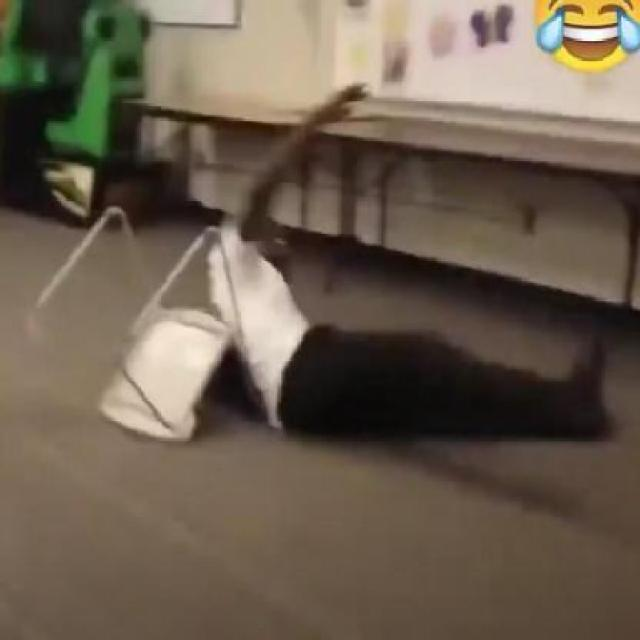fall: (210, 78, 612, 442)
